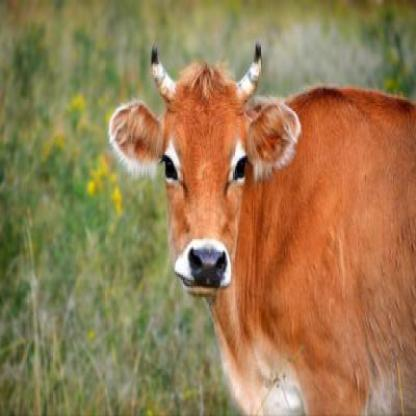lower: (194, 286, 221, 292)
mouth: (173, 242, 232, 295)
upper: (203, 260, 211, 274)
